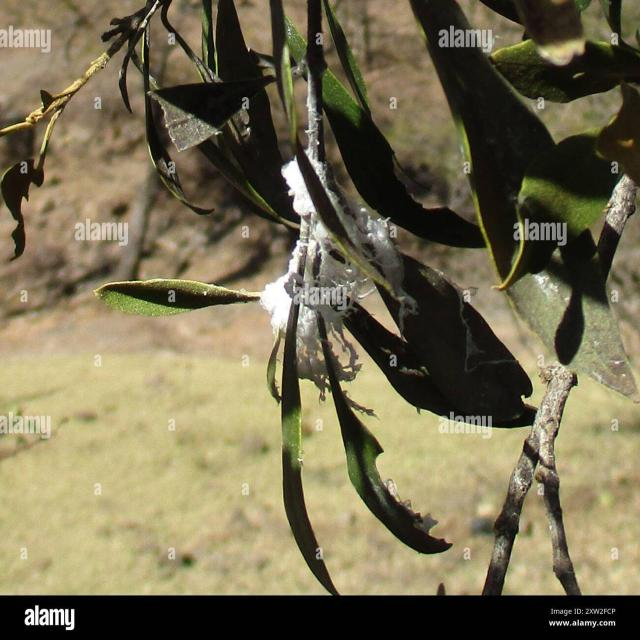Psyllid: (260, 145, 426, 408)
